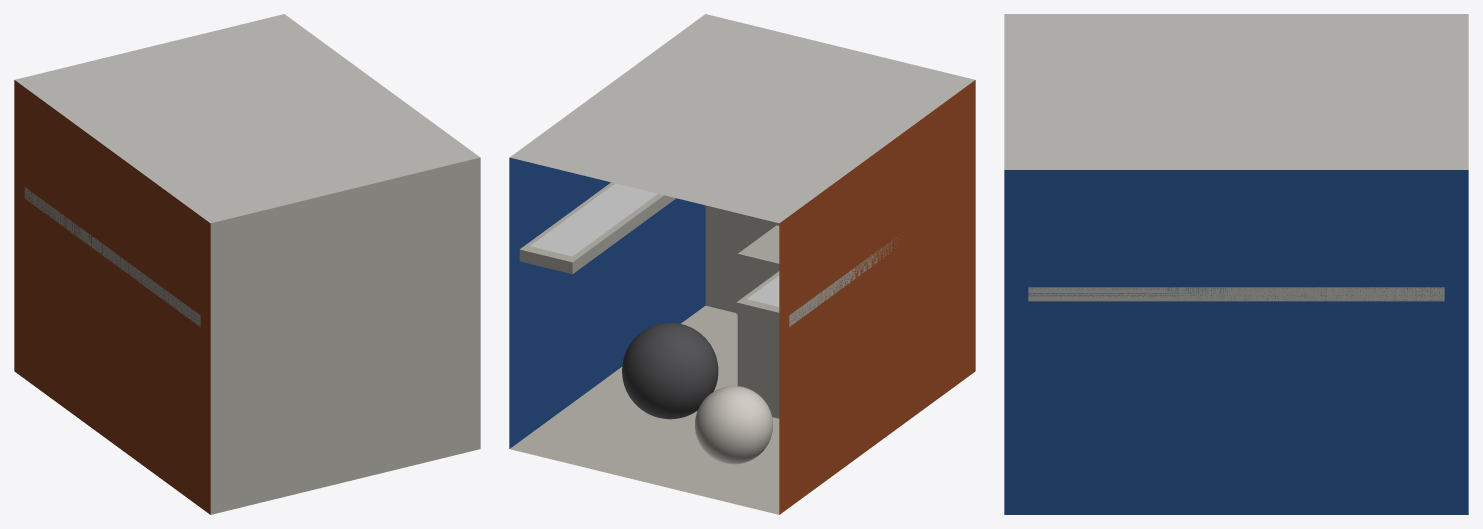
Rendered from cove.obj.
3 renders of one model, left to right at view 1: azimuth 30°, elevation 25°; view 2: azimuth 150°, elevation 25°; view 3: azimuth 270°, elevation 25°, orthographic. The views are drawn at different scales.
Size of the model in its own units: 310 by 320 by 390.
